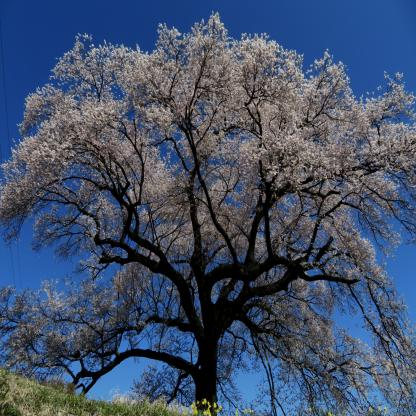EdohiganSakura: (0, 12, 416, 416)
